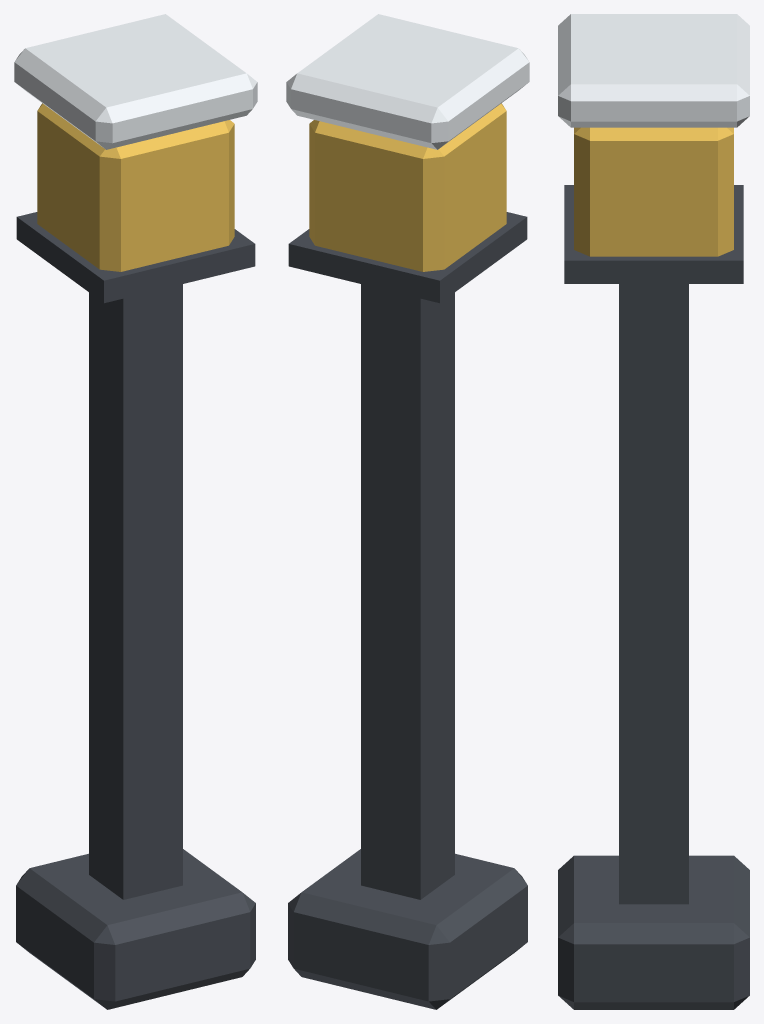
File: env_r2_lamp_post.glb
The picture shows the model from 3 angles, left to right: view 1: azimuth 30°, elevation 25°; view 2: azimuth 150°, elevation 25°; view 3: azimuth 270°, elevation 25°; orthographic projection. The views are drawn at different scales.
Parts seen in each view (by area): view 1: env_r2_lamp_post; view 2: env_r2_lamp_post; view 3: env_r2_lamp_post.
Boxes of the visible parts, x1=… form: env_r2_lamp_post: x1=14, y1=14, x2=257, y2=1009; env_r2_lamp_post: x1=286, y1=14, x2=529, y2=1009; env_r2_lamp_post: x1=558, y1=14, x2=749, y2=1009.
Bounding box in the file's own units: 0.6 × 3.2 × 0.6.
Materials: 1 (1 with a texture image).
